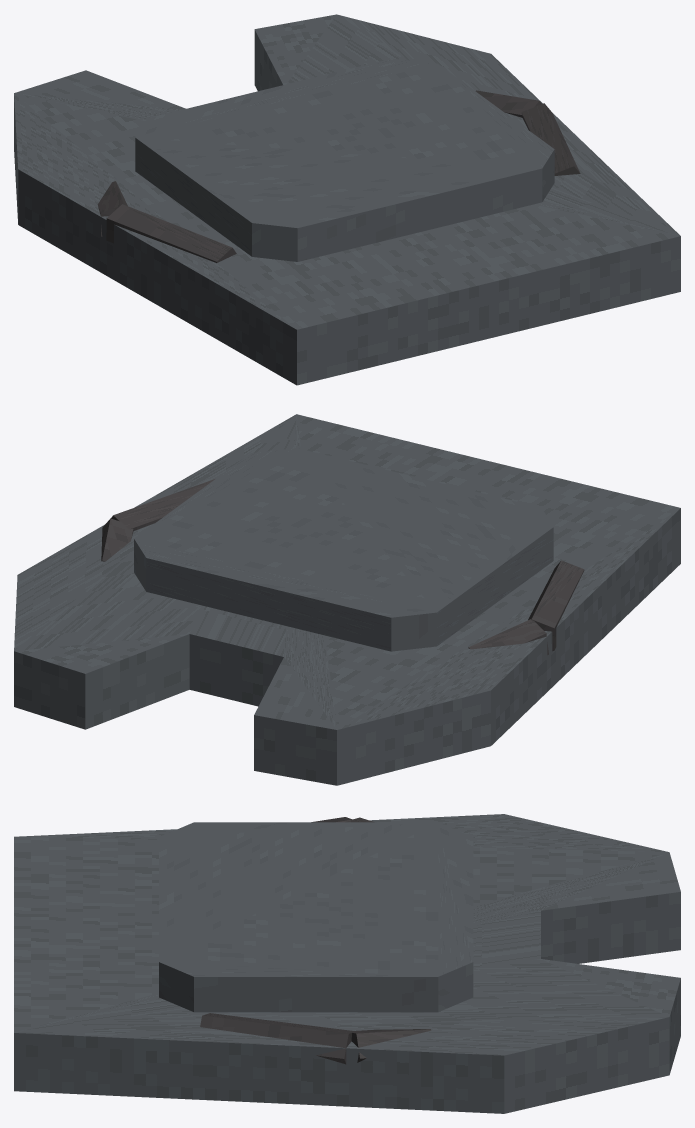
The model's file is chestguard_hard.glb.
3 views of the same model, one above another, from view 1: azimuth 30°, elevation 25°; view 2: azimuth 150°, elevation 25°; view 3: azimuth 270°, elevation 25° (orthographic). The views are drawn at different scales.
Parts seen in each view (by area): view 1: block_vest body, block_front protection panel, block_adjustment strap 1 (×2), block_adjustment strap 0 (×2); view 2: block_vest body, block_front protection panel, block_adjustment strap 1 (×2), block_adjustment strap 0 (×2); view 3: block_vest body, block_front protection panel, block_adjustment strap 1, block_adjustment strap 0.
Part boxes in pixels (bbox=[...]): block_vest body: bbox=[14, 14, 680, 385]; block_front protection panel: bbox=[135, 58, 554, 261]; block_adjustment strap 1 (×2): bbox=[106, 103, 580, 262]; block_adjustment strap 0 (×2): bbox=[97, 90, 541, 236]; block_vest body: bbox=[14, 414, 680, 785]; block_front protection panel: bbox=[134, 448, 553, 651]; block_adjustment strap 1 (×2): bbox=[111, 479, 584, 651]; block_adjustment strap 0 (×2): bbox=[101, 518, 548, 655]; block_vest body: bbox=[14, 814, 680, 1113]; block_front protection panel: bbox=[159, 822, 473, 1012]; block_adjustment strap 1: bbox=[200, 1013, 354, 1064]; block_adjustment strap 0: bbox=[351, 1029, 431, 1062].
Bounding box in the file's own units: 0.1714 × 0.031 × 0.2.
Materials: 1 (1 with a texture image).
